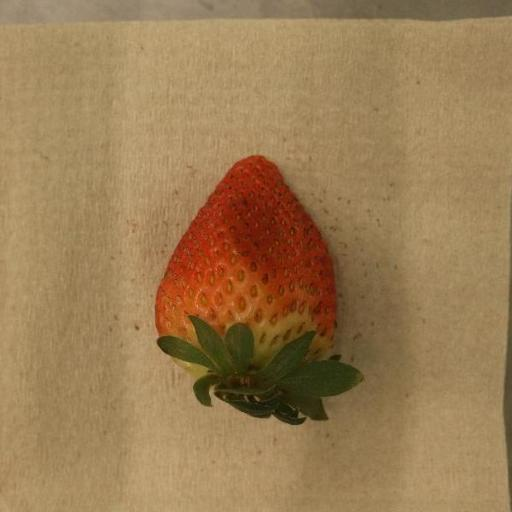Strawberry: (155, 155, 366, 427)
